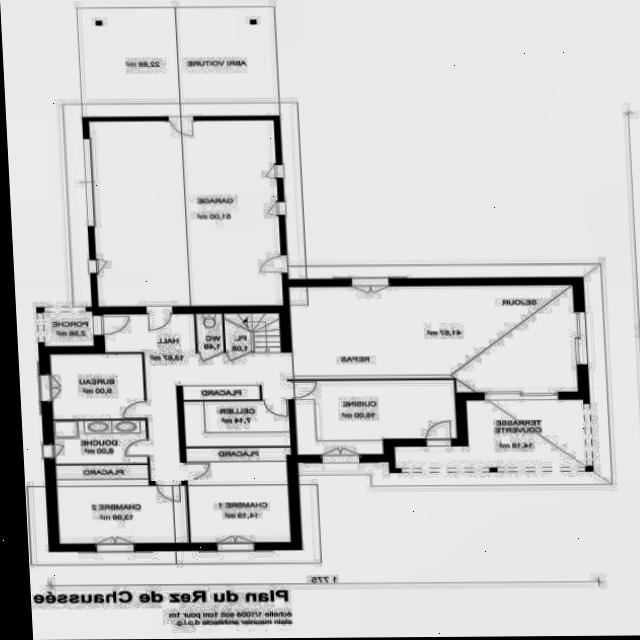room: (89, 120, 284, 307), (103, 305, 296, 485), (290, 286, 579, 394), (293, 379, 457, 455), (56, 463, 189, 544), (185, 447, 292, 543), (50, 354, 146, 420), (184, 401, 290, 446), (53, 420, 148, 464), (224, 313, 281, 353), (43, 311, 94, 346), (196, 313, 224, 353)
